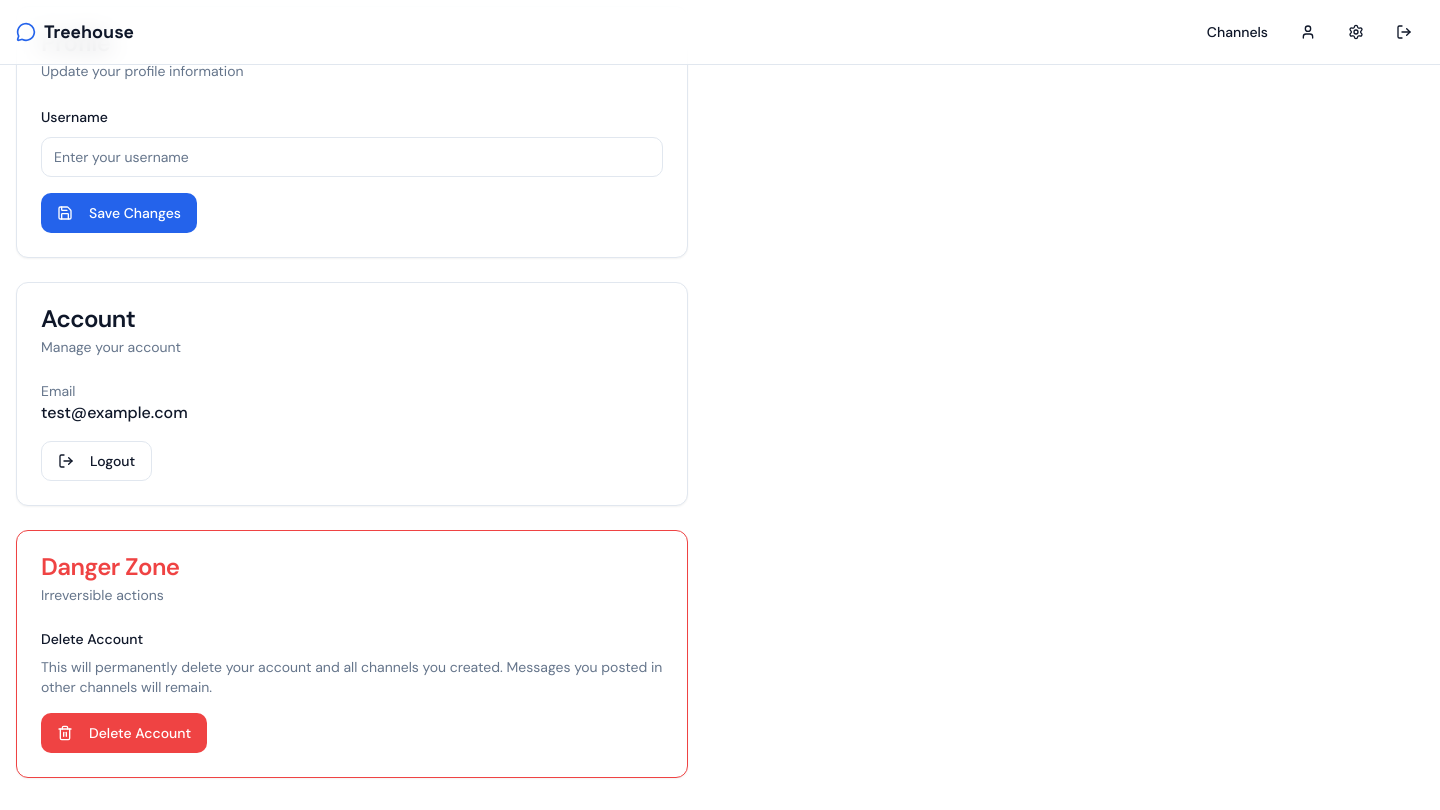
SettingsPage › opens delete account modal when button clicked
(page scrolled)
Click the button "Delete Account" at (124, 733), box 41,713 -> 207,753
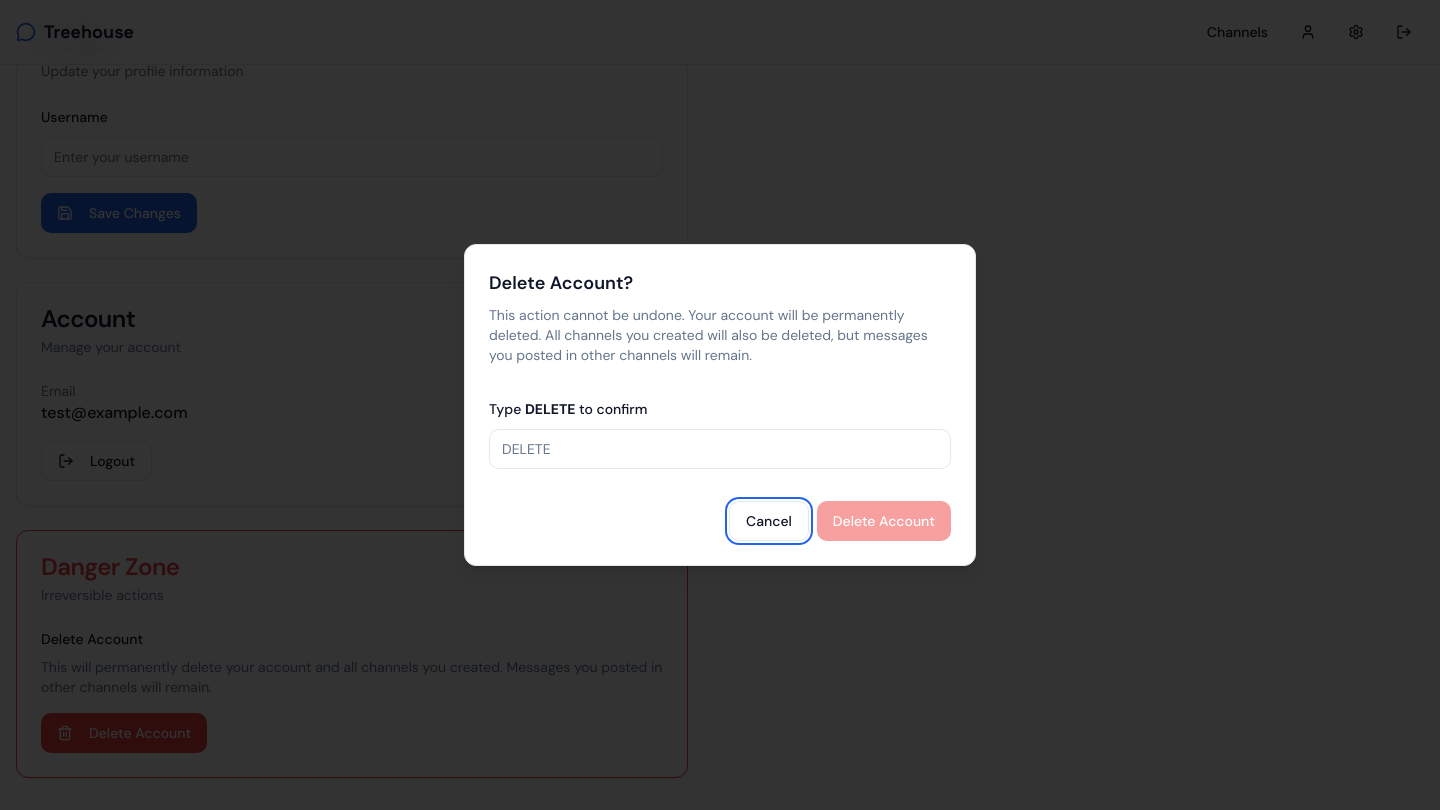
Expected: the heading "Delete Account?" is shown, 489,271 -> 633,295
